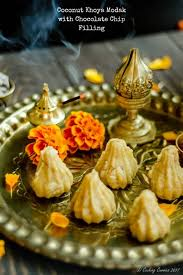modak: (26, 143, 80, 201), (124, 183, 171, 241), (95, 135, 139, 186), (75, 172, 118, 224), (147, 138, 183, 192)
